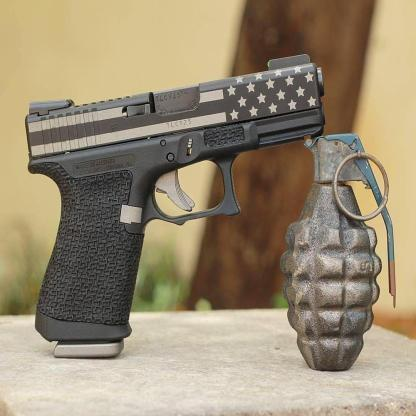Grenade: (282, 132, 399, 373)
Pistol: (24, 53, 327, 361)
